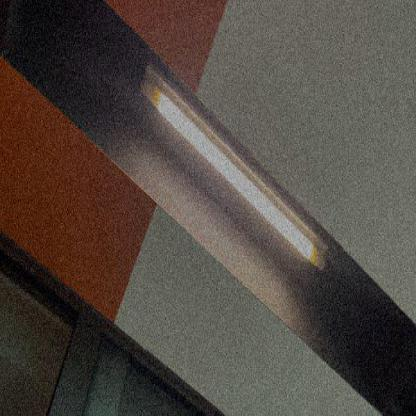light_on: (129, 52, 333, 283)
